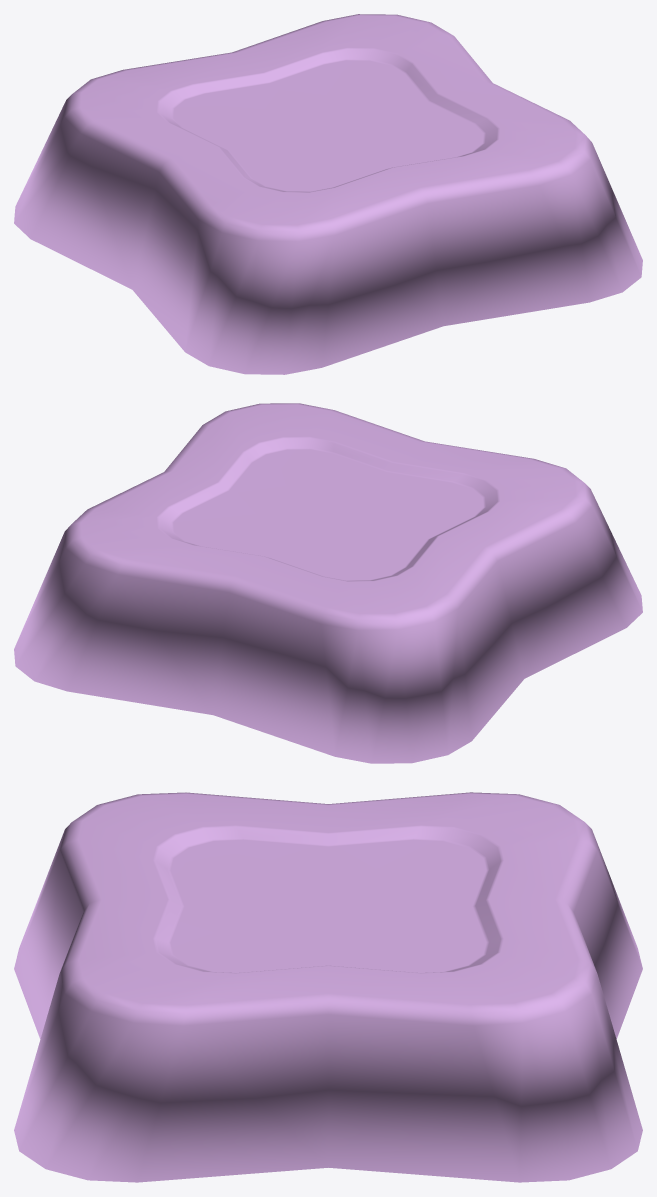
File: MEC0110010.fbx
3 renders of one model, top to bottom at view 1: azimuth 30°, elevation 25°; view 2: azimuth 150°, elevation 25°; view 3: azimuth 270°, elevation 25°, orthographic. The views are drawn at different scales.
Visible parts, largest first — view 1: smMEC0110010; view 2: smMEC0110010; view 3: smMEC0110010.
Part boxes in pixels (x1=…): smMEC0110010: x1=14, y1=14, x2=642, y2=374; smMEC0110010: x1=14, y1=403, x2=642, y2=763; smMEC0110010: x1=14, y1=792, x2=642, y2=1182.
Bounding box in the file's own units: 204 × 53.74 × 204.
Materials: 1 (1 with a texture image).
